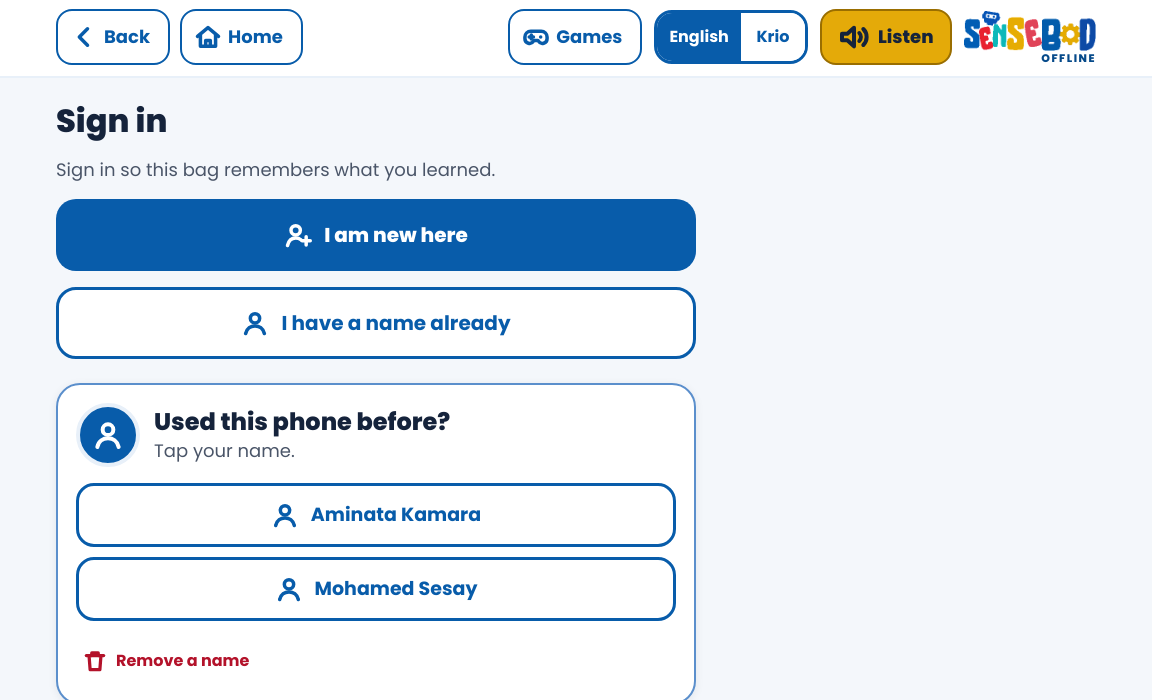
Test: Sign in (V3-SignIn, with a secret number) › a name used on this phone before still needs its number
Later steps or results of the test are not shown.
What coordinates should you click on to do the following:
click the button "Mohamed Sesay"
I would click on:
 (376, 589)
Its box is [76,557,676,621].
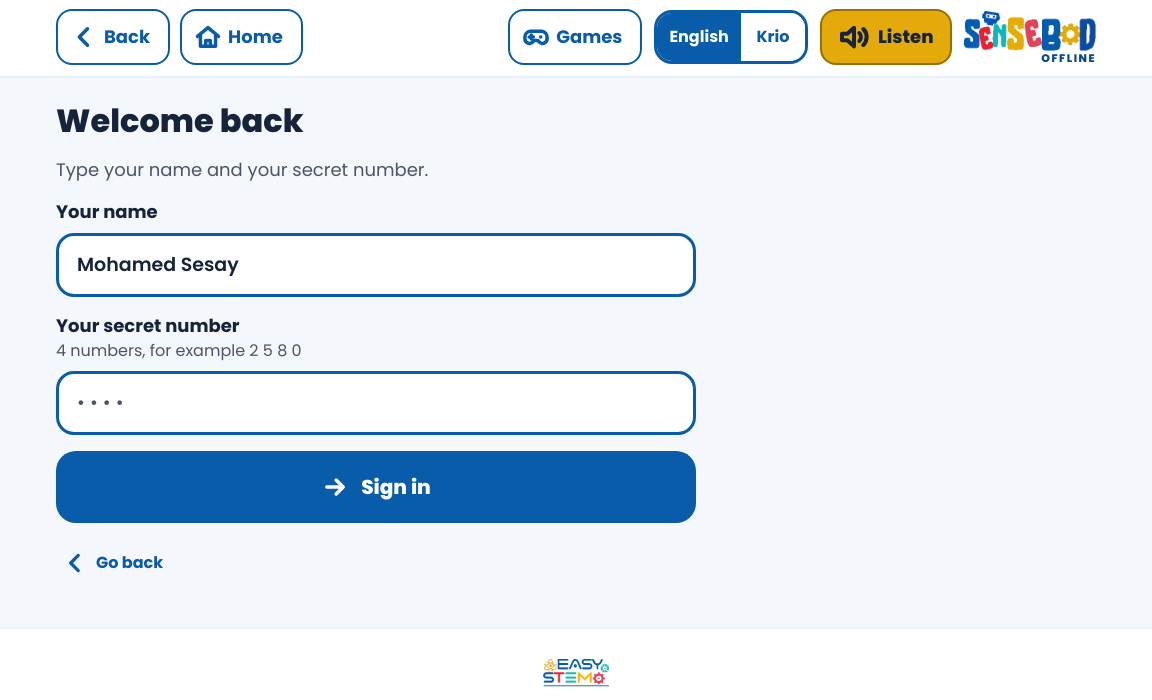
Expected: the field labelled "Your name" holds "Mohamed Sesay", [56,233,696,297]
